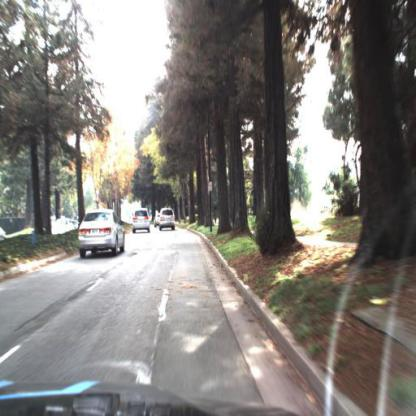car: (80, 207, 129, 258), (132, 207, 152, 234), (158, 207, 177, 234), (133, 208, 151, 234), (153, 211, 163, 232)
